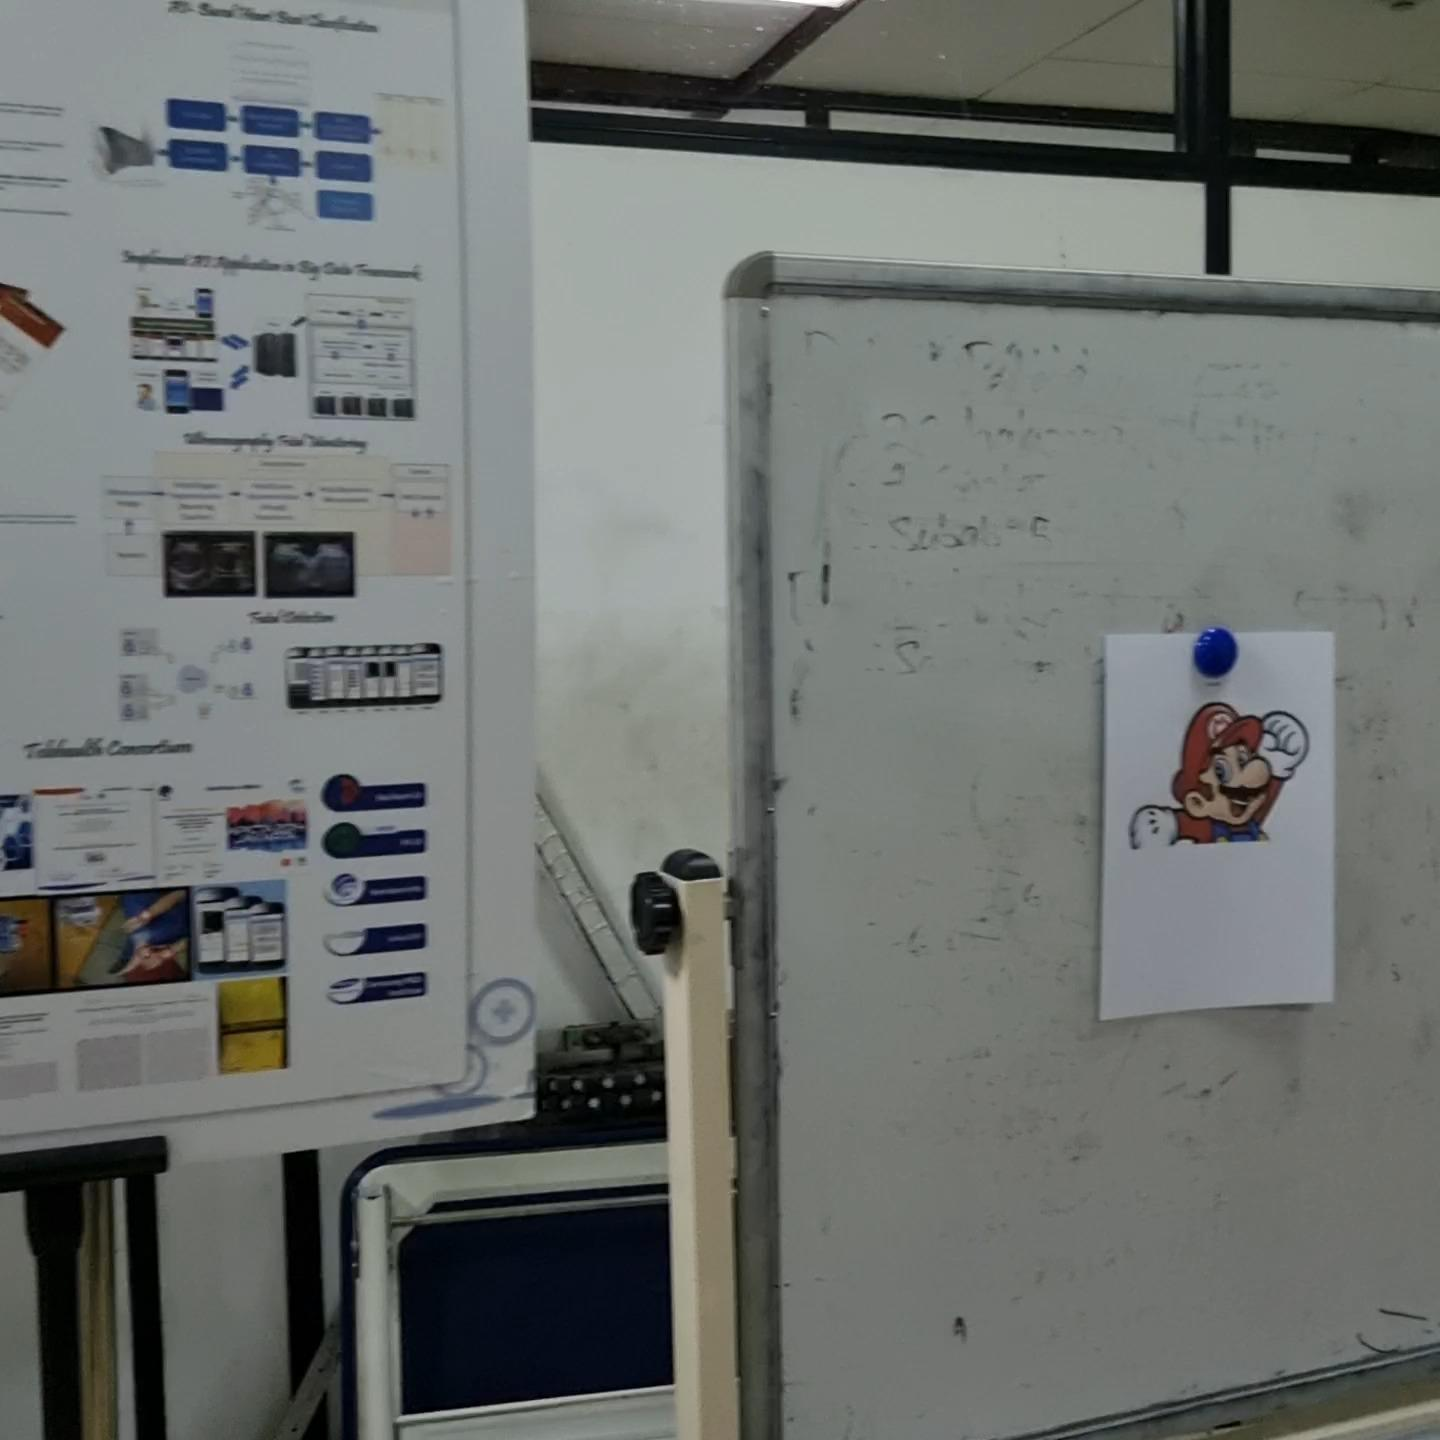mario: (1117, 691, 1311, 858)
